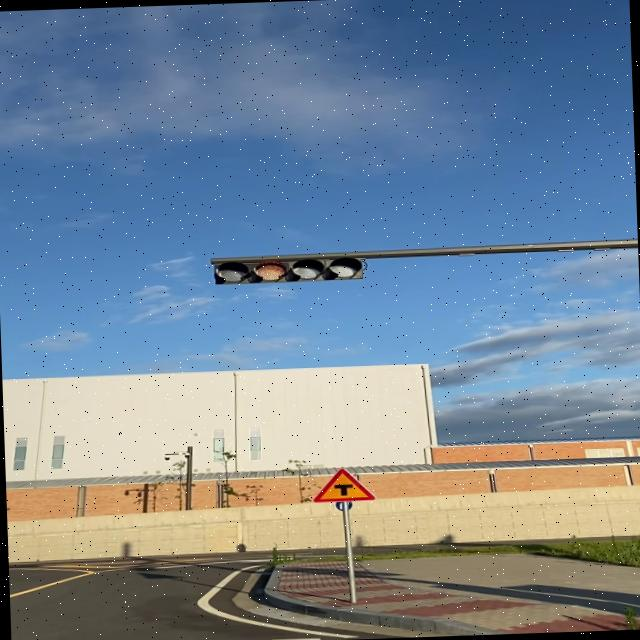yellow_light: (215, 254, 362, 284)
